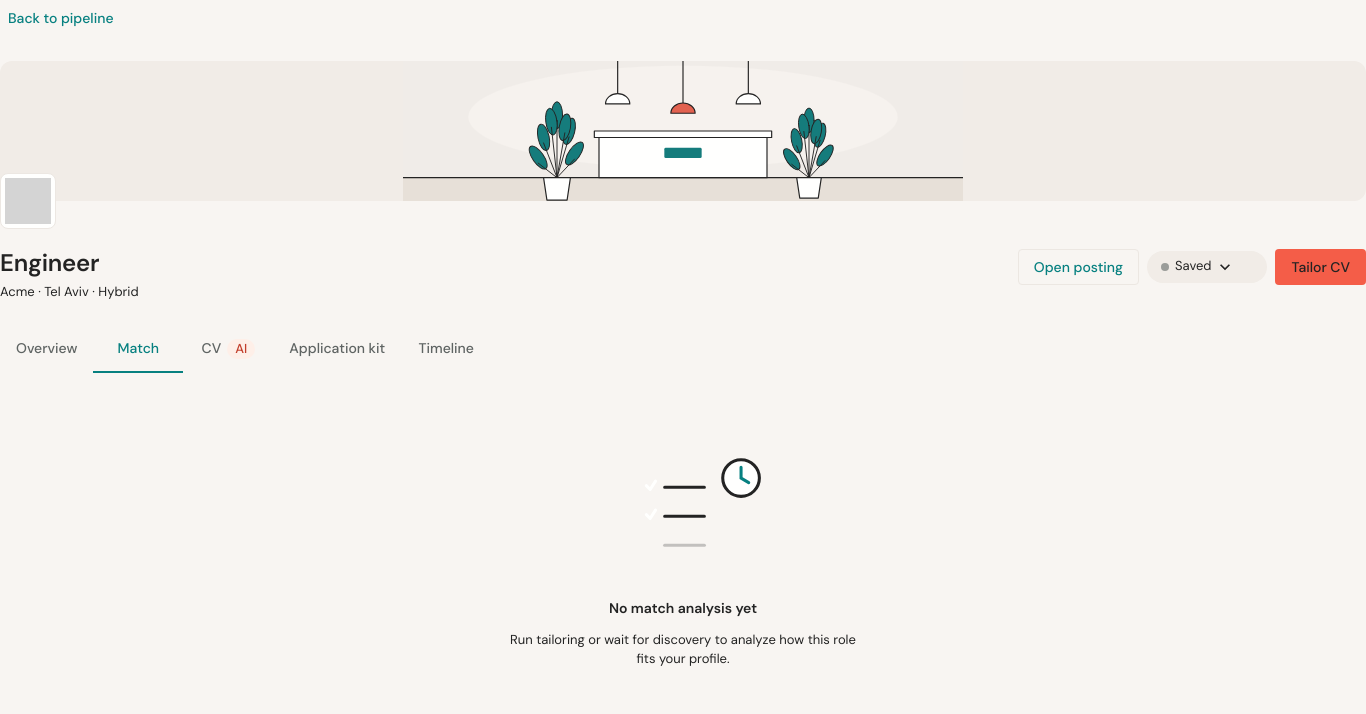
Test: JobPage › should show an empty state when the job has not been analyzed
This screenshot has width=1366, height=714.
expect the element with test id "job-match-empty" is shown: met, box [510,421,856,667]
expect the text "No match analysis yet" is shown: met, box [609,598,757,619]
Click the tab "Overview" at (47, 349), box [0,325,93,373]
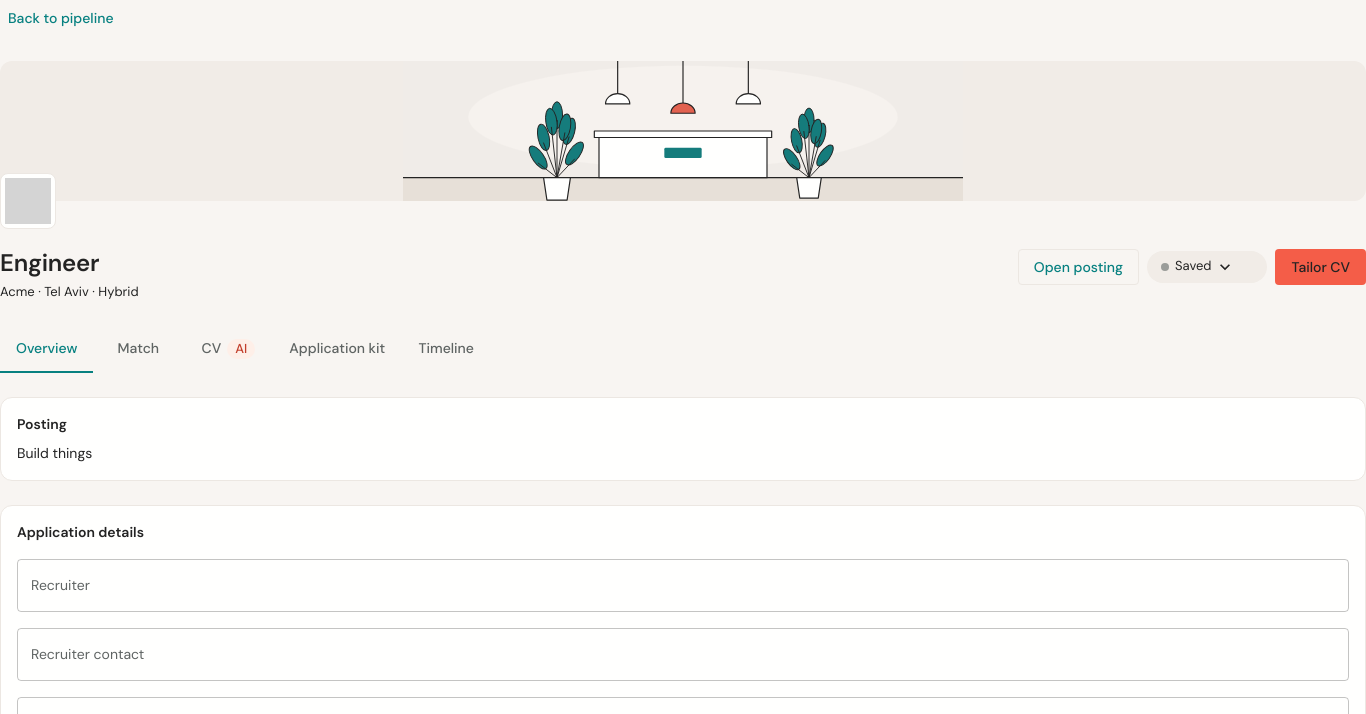
expect the text "Build things" is shown: met, box [17,444,92,462]
